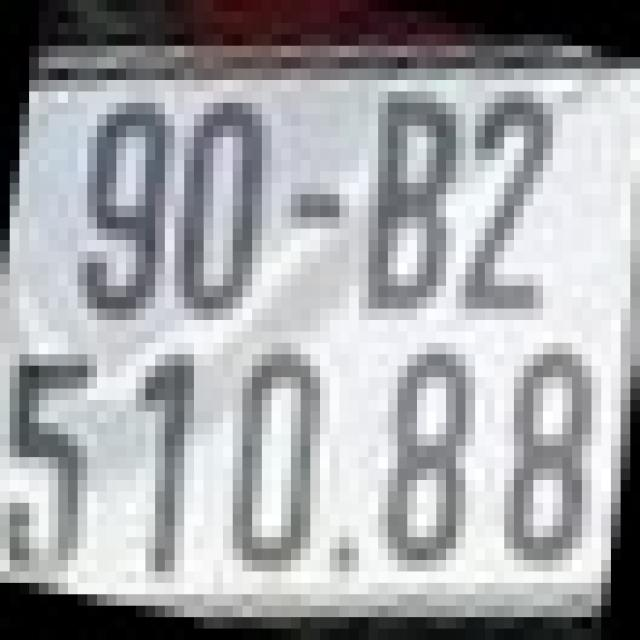0: (174, 91, 262, 320), (233, 343, 320, 571)
1: (136, 343, 203, 571)
2: (465, 92, 553, 308)
5: (10, 354, 97, 560)
8: (378, 343, 475, 571), (504, 343, 592, 560)
9: (77, 103, 165, 320)
B: (359, 92, 456, 308)
